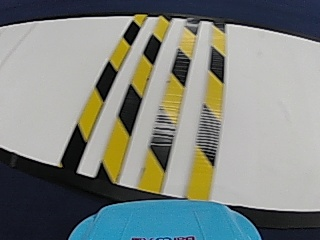bump: (62, 17, 238, 182)
